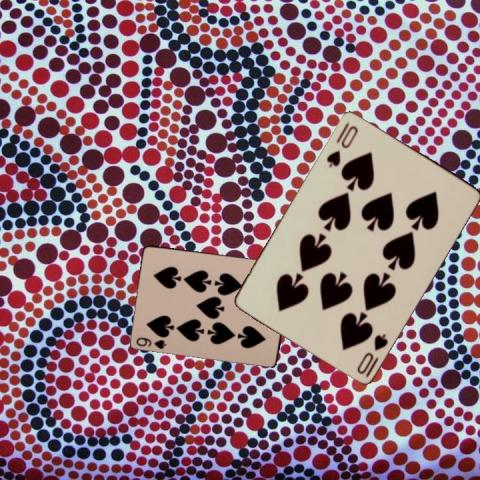10s: (324, 122, 360, 168), (354, 330, 390, 375)
9s: (133, 334, 168, 350)
